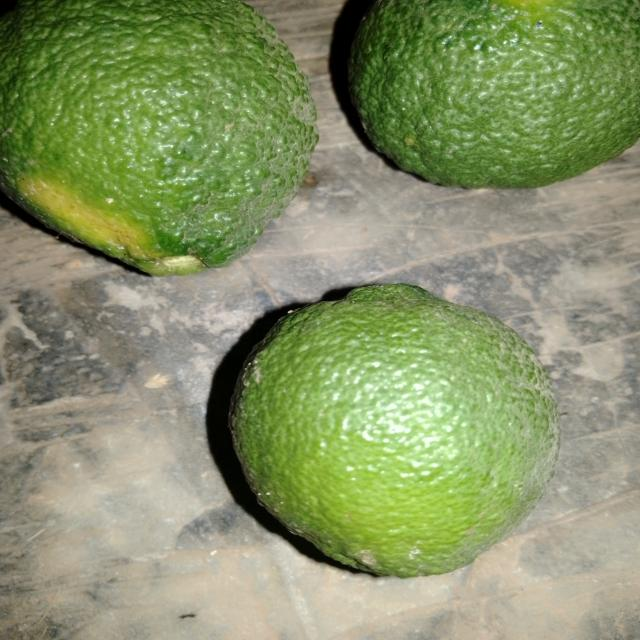Unripe: (216, 276, 566, 586), (0, 0, 326, 288), (336, 0, 640, 197)
